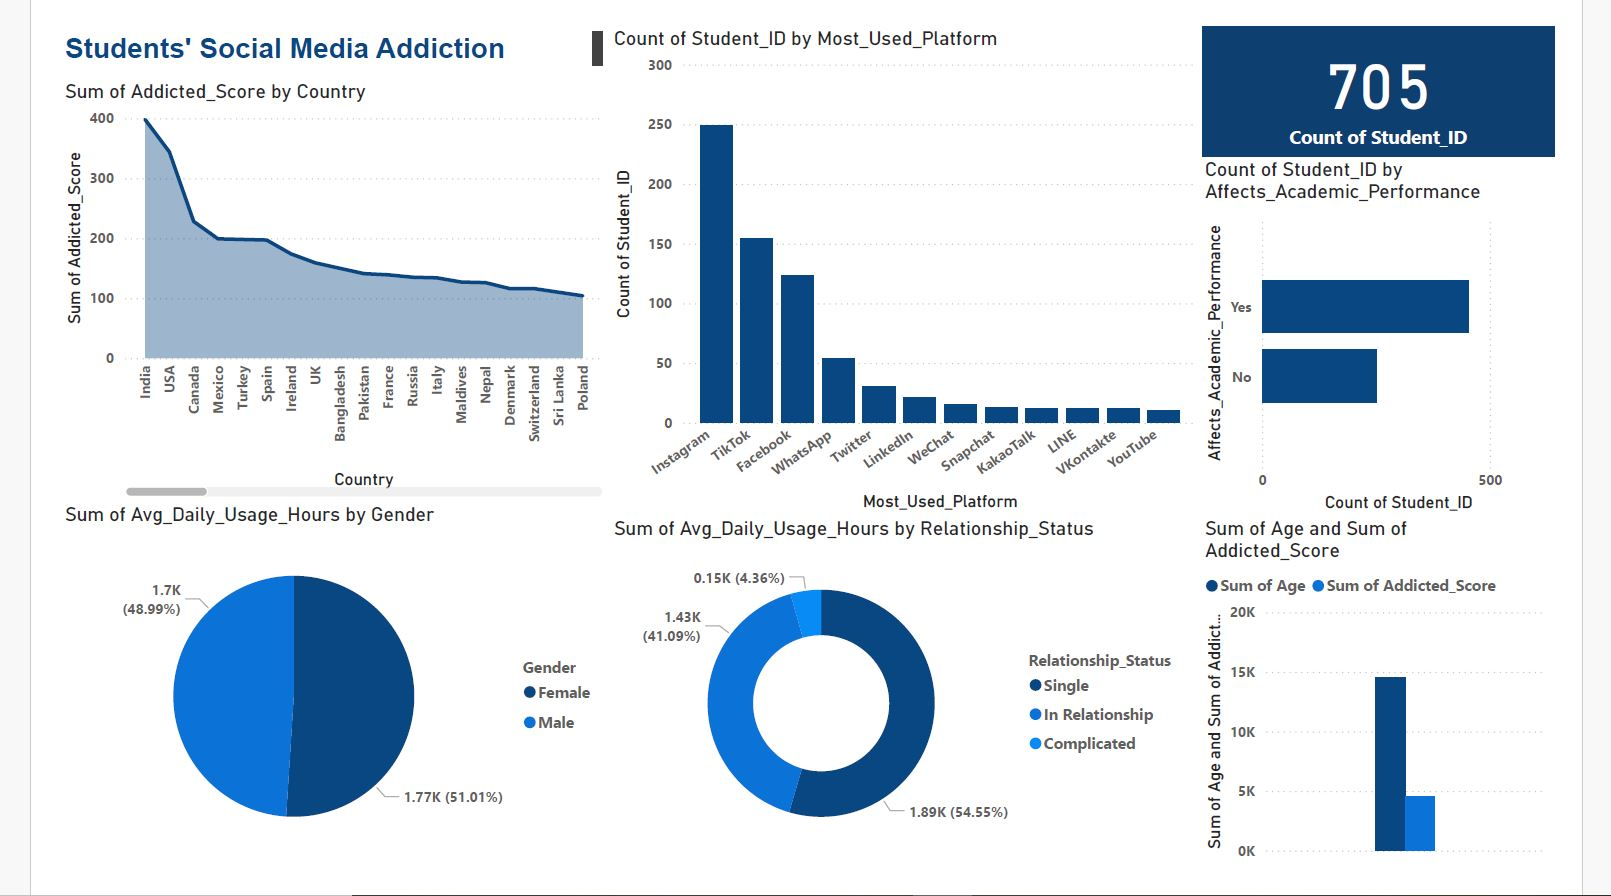

What the dashboard file says about the page in this screenshot:
{"tool":"powerbi","page":{"name":"Page 1","canvas":[1280,720],"ordinal":0},"visuals":[{"type":"areaChart","fields":{"Category":["Students Social Media Addiction.Country"],"Y":["Sum(Students Social Media Addiction.Addicted_Score)"]},"box":[0,45.5,470.1,362.7],"z":0},{"type":"pieChart","fields":{"Category":["Students Social Media Addiction.Gender"],"Y":["Sum(Students Social Media Addiction.Avg_Daily_Usage_Hours)"]},"box":[0,408.3,470.1,312.3],"z":1},{"type":"clusteredColumnChart","fields":{"Category":["Students Social Media Addiction.Most_Used_Platform"],"Y":["CountNonNull(Students Social Media Addiction.Student_ID)"]},"box":[470.1,0,509.1,419.6],"z":2},{"type":"clusteredBarChart","fields":{"Category":["Students Social Media Addiction.Affects_Academic_Performance"],"Y":["CountNonNull(Students Social Media Addiction.Student_ID)"]},"box":[975.9,112.2,304.2,307.4],"z":3},{"type":"donutChart","fields":{"Category":["Students Social Media Addiction.Relationship_Status"],"Y":["Sum(Students Social Media Addiction.Avg_Daily_Usage_Hours)"]},"box":[470.1,419.6,509.1,300.9],"z":4},{"type":"clusteredColumnChart","fields":{"Y":["Sum(Students Social Media Addiction.Age)","Sum(Students Social Media Addiction.Addicted_Score)"]},"box":[975.8,420.1,303.6,299.8],"z":5},{"type":"textbox","box":[0,0,470.1,45.5],"z":6},{"type":"card","fields":{"Values":["CountNonNull(Students Social Media Addiction.Student_ID)"]},"box":[979.2,0,300.9,112.2],"z":7}]}

Visuals, with their boxes in screenshot pixels (x1, y1, x2, y2), scaled from the page's 1280x720 canvas onto the 1611x896 screenshot:
areaChart - Students Social Media Addiction.Country x Sum(Students Social Media Addiction.Addicted_Score): <region>0, 57, 592, 508</region>
pieChart - Students Social Media Addiction.Gender x Sum(Students Social Media Addiction.Avg_Daily_Usage_Hours): <region>0, 508, 592, 895</region>
clusteredColumnChart - Students Social Media Addiction.Most_Used_Platform x CountNonNull(Students Social Media Addiction.Student_ID): <region>592, 0, 1232, 522</region>
clusteredBarChart - Students Social Media Addiction.Affects_Academic_Performance x CountNonNull(Students Social Media Addiction.Student_ID): <region>1228, 140, 1610, 522</region>
donutChart - Students Social Media Addiction.Relationship_Status x Sum(Students Social Media Addiction.Avg_Daily_Usage_Hours): <region>592, 522, 1232, 895</region>
clusteredColumnChart - Sum(Students Social Media Addiction.Age) x Sum(Students Social Media Addiction.Addicted_Score): <region>1228, 523, 1610, 895</region>
textbox: <region>0, 0, 592, 57</region>
card - CountNonNull(Students Social Media Addiction.Student_ID): <region>1232, 0, 1610, 140</region>
